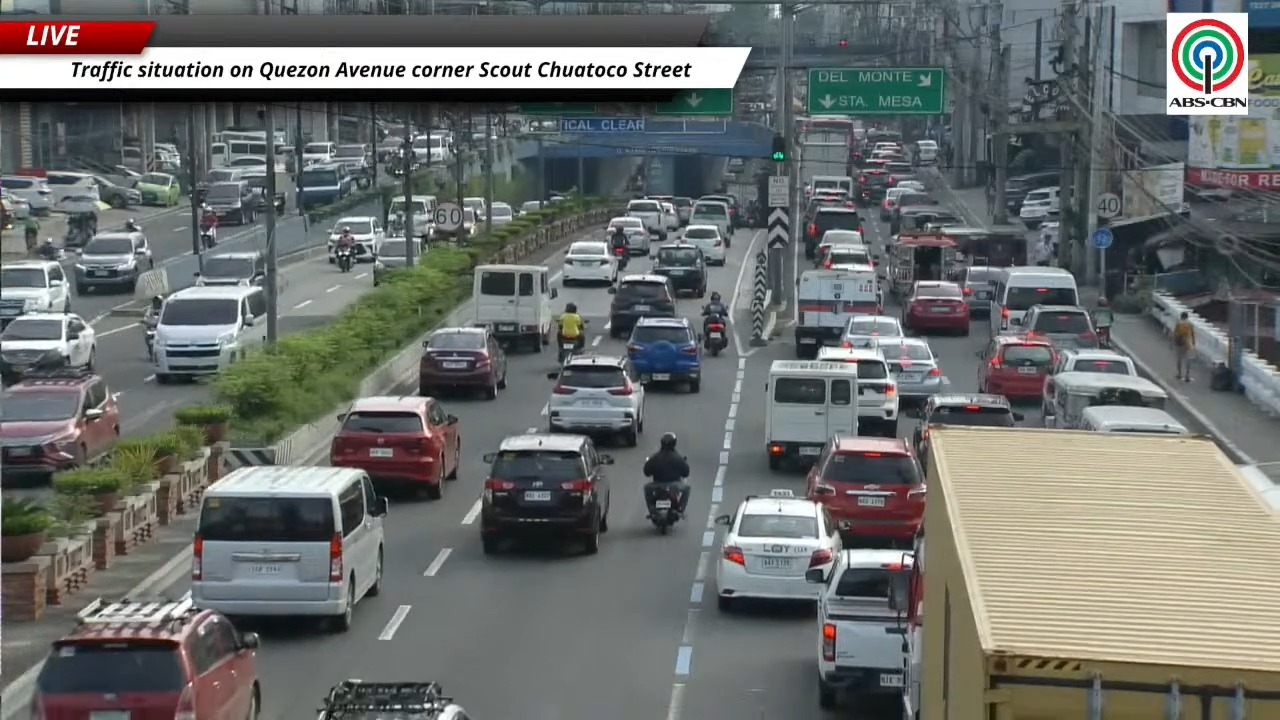car: (32, 598, 262, 719), (479, 434, 613, 554), (716, 489, 841, 610), (0, 368, 119, 481), (330, 395, 459, 499), (806, 435, 924, 546), (547, 354, 644, 446), (912, 394, 1023, 469), (816, 347, 898, 436), (0, 313, 96, 382), (419, 327, 507, 399), (317, 679, 467, 719), (627, 317, 701, 392), (978, 335, 1055, 399), (74, 231, 153, 293), (0, 260, 70, 327), (875, 338, 945, 404), (608, 275, 675, 338), (902, 282, 969, 335), (1019, 305, 1098, 348), (651, 241, 707, 297), (805, 206, 864, 259), (327, 216, 384, 263), (195, 250, 266, 286), (203, 179, 257, 224), (1052, 348, 1138, 376), (562, 241, 616, 285), (957, 266, 1000, 316), (0, 175, 53, 215), (841, 315, 905, 347), (242, 167, 286, 213), (814, 230, 864, 268), (681, 225, 726, 265), (431, 207, 482, 241), (699, 193, 746, 229), (1019, 186, 1059, 228), (605, 217, 650, 254), (91, 175, 141, 208), (626, 200, 666, 241), (373, 237, 406, 286), (134, 172, 181, 206), (689, 201, 733, 237), (821, 244, 875, 269), (855, 167, 888, 206), (0, 192, 32, 228), (880, 184, 909, 221), (1037, 218, 1060, 254), (672, 196, 692, 225), (915, 140, 938, 164), (490, 202, 514, 225), (661, 202, 680, 231), (225, 156, 264, 170), (463, 196, 487, 217), (518, 200, 545, 215), (895, 180, 926, 192), (144, 198, 148, 203)
motorcycle: (648, 484, 681, 534), (704, 317, 727, 356), (557, 330, 581, 367), (141, 320, 155, 361), (558, 337, 577, 366), (335, 247, 354, 272), (612, 246, 628, 272), (1096, 326, 1112, 350), (200, 226, 216, 249)
truck: (891, 425, 1279, 719), (805, 548, 911, 709), (800, 131, 849, 187)
